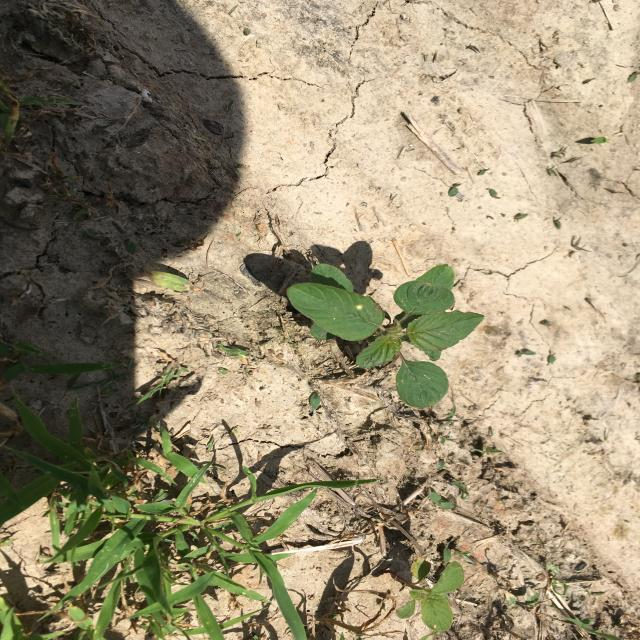PalmerAmaranth: (286, 263, 485, 408), (395, 558, 465, 632)
